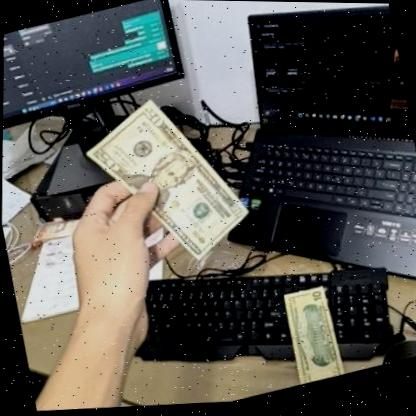ten-back: (278, 286, 346, 390)
twenty-front: (74, 79, 258, 286)
